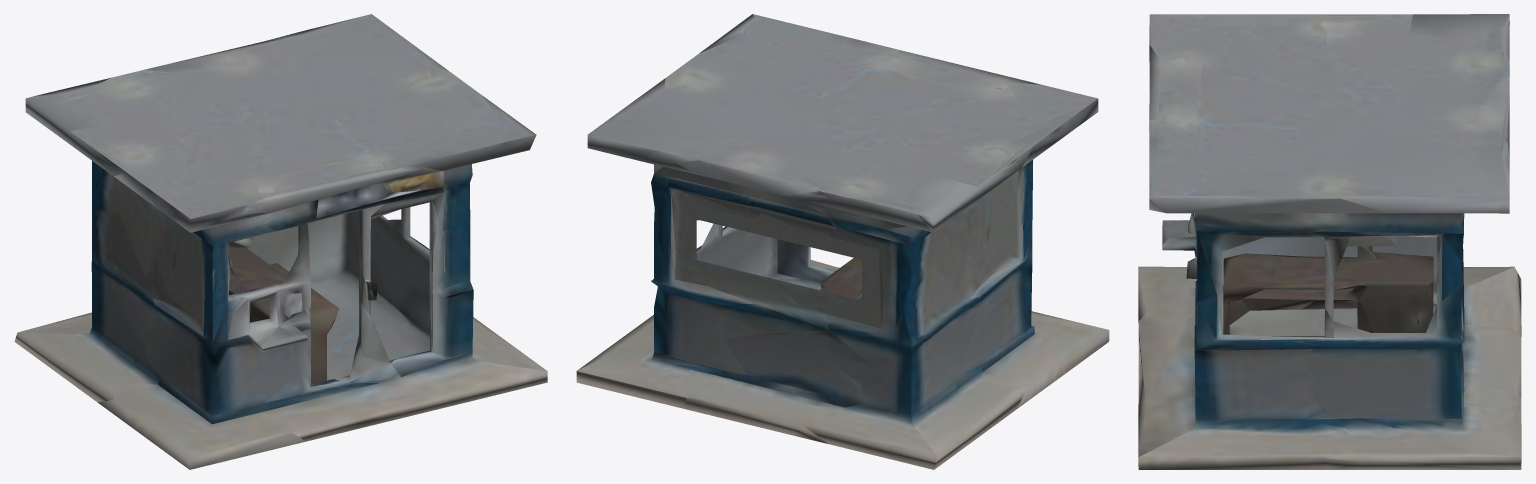
File: pos_security_lod2.glb
3 renders of one model, left to right at view 1: azimuth 30°, elevation 25°; view 2: azimuth 150°, elevation 25°; view 3: azimuth 270°, elevation 25°, orthographic. The views are drawn at different scales.
Visible parts, largest first — view 1: tripo_node_d71a70d3-4f36-4b1c-aaa7-bd59d2c7fd9b; view 2: tripo_node_d71a70d3-4f36-4b1c-aaa7-bd59d2c7fd9b; view 3: tripo_node_d71a70d3-4f36-4b1c-aaa7-bd59d2c7fd9b.
Part boxes in pixels (left/top/right/bottom): tripo_node_d71a70d3-4f36-4b1c-aaa7-bd59d2c7fd9b: left=14, top=14, right=547, bottom=469; tripo_node_d71a70d3-4f36-4b1c-aaa7-bd59d2c7fd9b: left=576, top=14, right=1109, bottom=469; tripo_node_d71a70d3-4f36-4b1c-aaa7-bd59d2c7fd9b: left=1138, top=14, right=1521, bottom=469.
Bounding box in the file's own units: 0.9999 × 0.6608 × 0.8491.
Materials: 1 (1 with a texture image).
